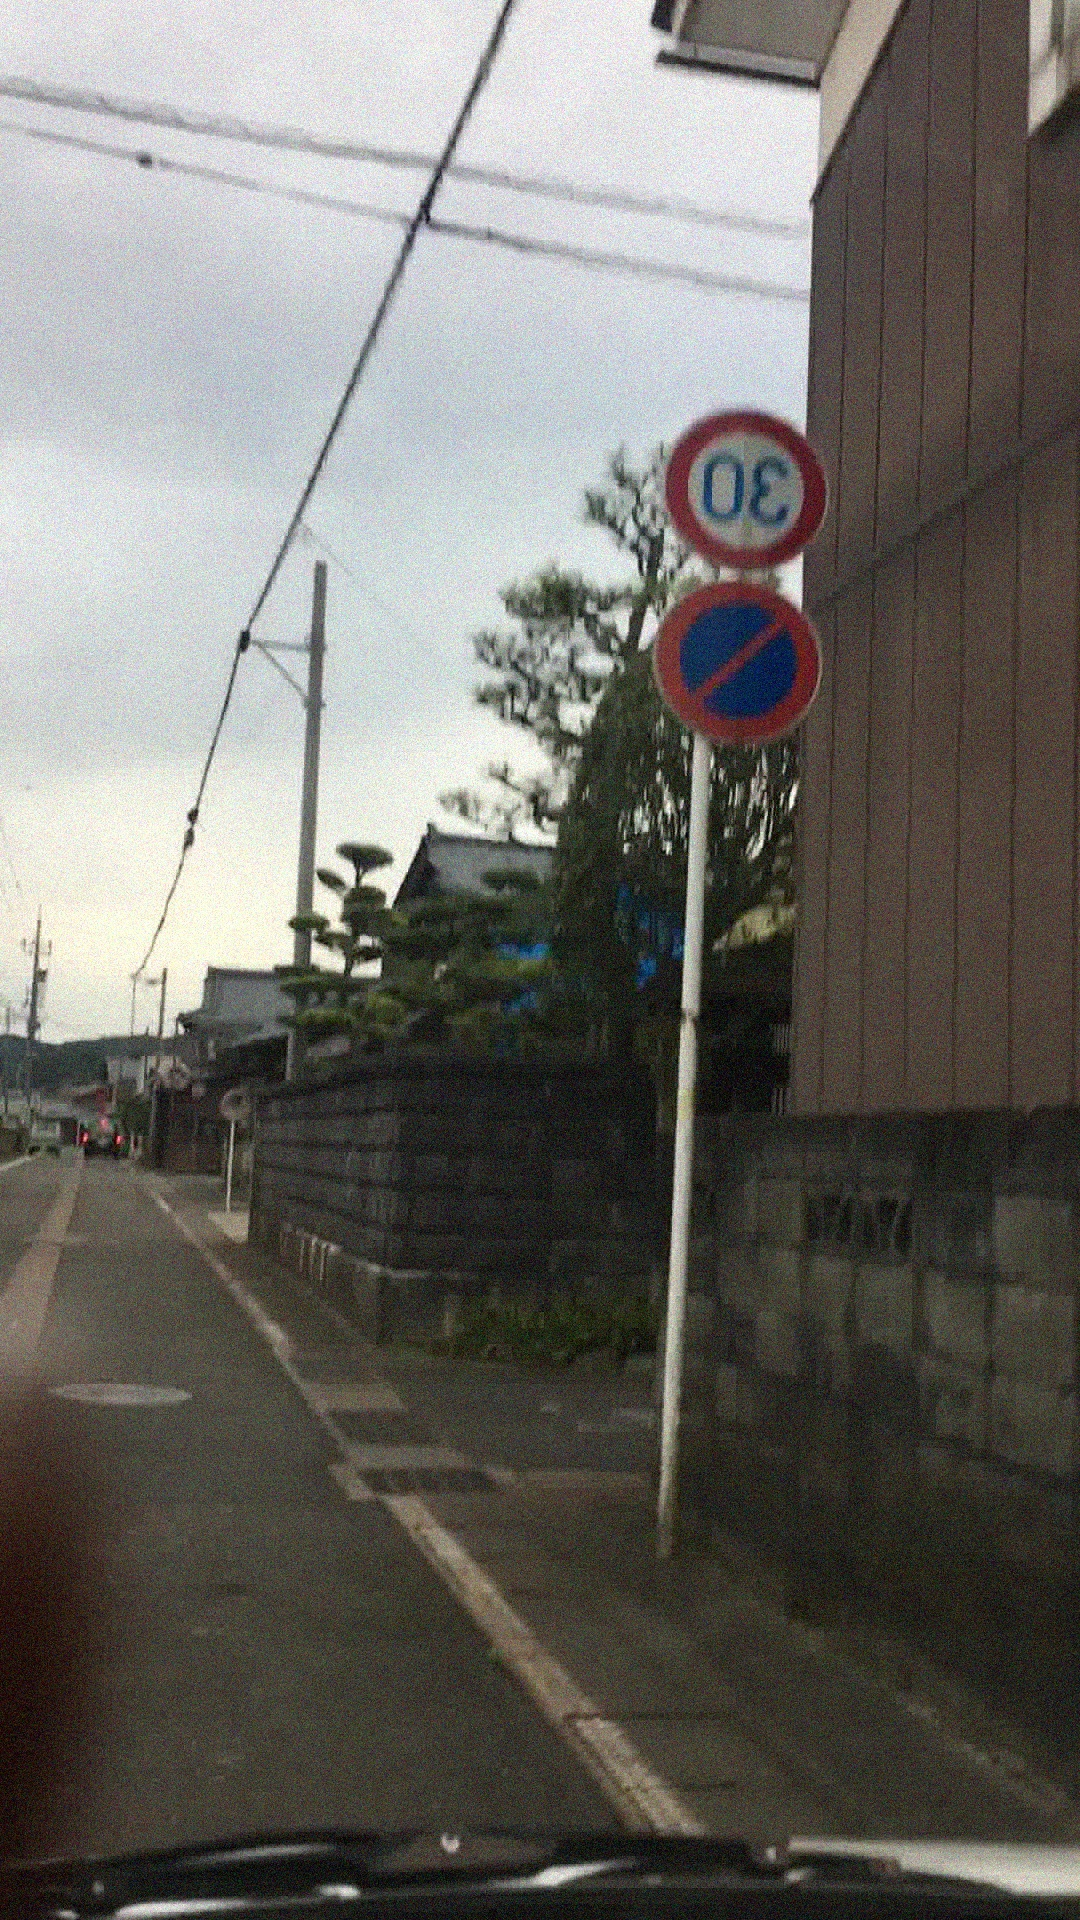Prohibition_sign: (622, 564, 837, 781)
Speed_sign: (666, 398, 836, 572)
